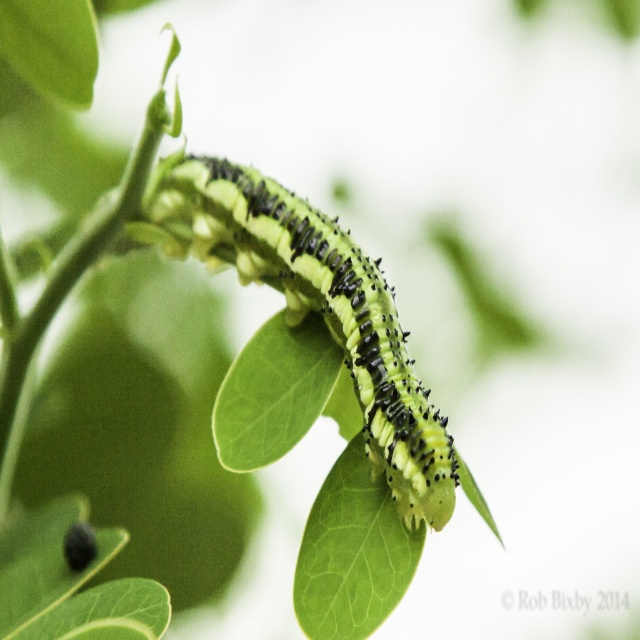Caterpillar: (164, 152, 461, 532)
